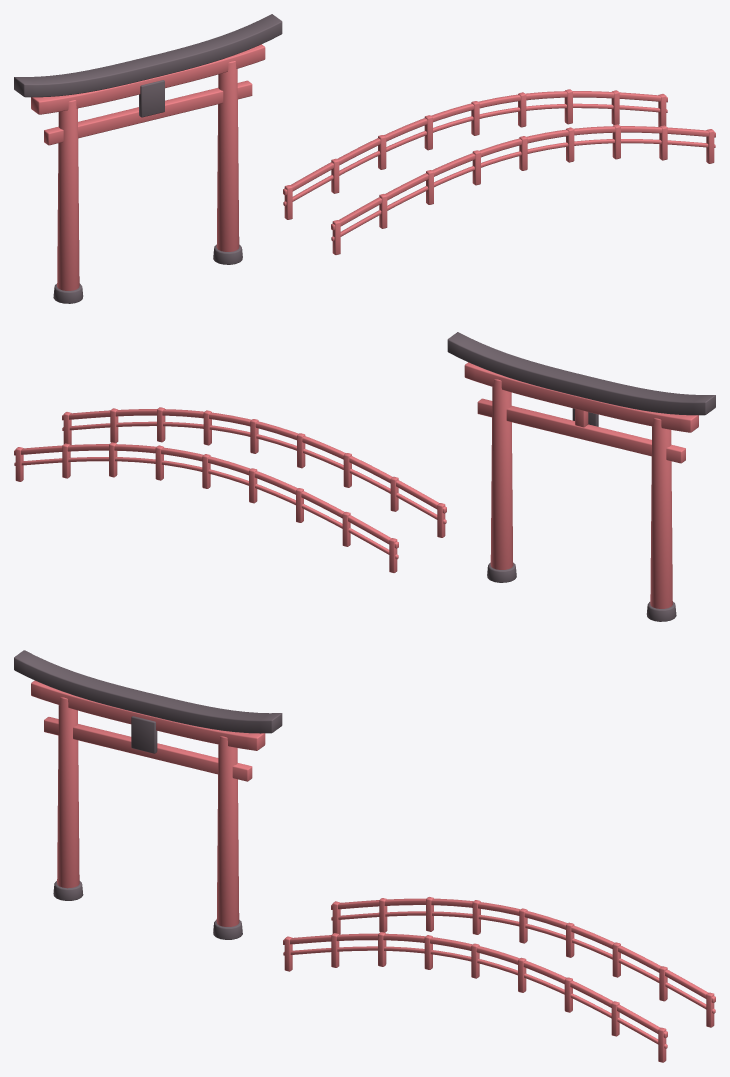
Rendered from Sakura_Props_Fix.fbx.
3 views of the same model, one above another, from view 1: azimuth 30°, elevation 25°; view 2: azimuth 150°, elevation 25°; view 3: azimuth 330°, elevation 25° (orthographic).
Visible parts, largest first — view 1: Torii_Red, Bridge_Red, Torii_Black; view 2: Torii_Red, Bridge_Red, Torii_Black; view 3: Bridge_Red, Torii_Red, Torii_Black.
Boxes of the visible parts, x1,y1,x2,y2 form: Torii_Red: (31,44,265,290); Bridge_Red: (283,89,715,254); Torii_Black: (14,14,282,303); Torii_Red: (464,362,698,608); Bridge_Red: (14,407,446,572); Torii_Black: (447,332,715,621); Bridge_Red: (283,897,715,1062); Torii_Red: (31,680,265,926); Torii_Black: (14,650,282,939).
Size of the model in its own units: 42.1 by 13.74 by 5.56.
